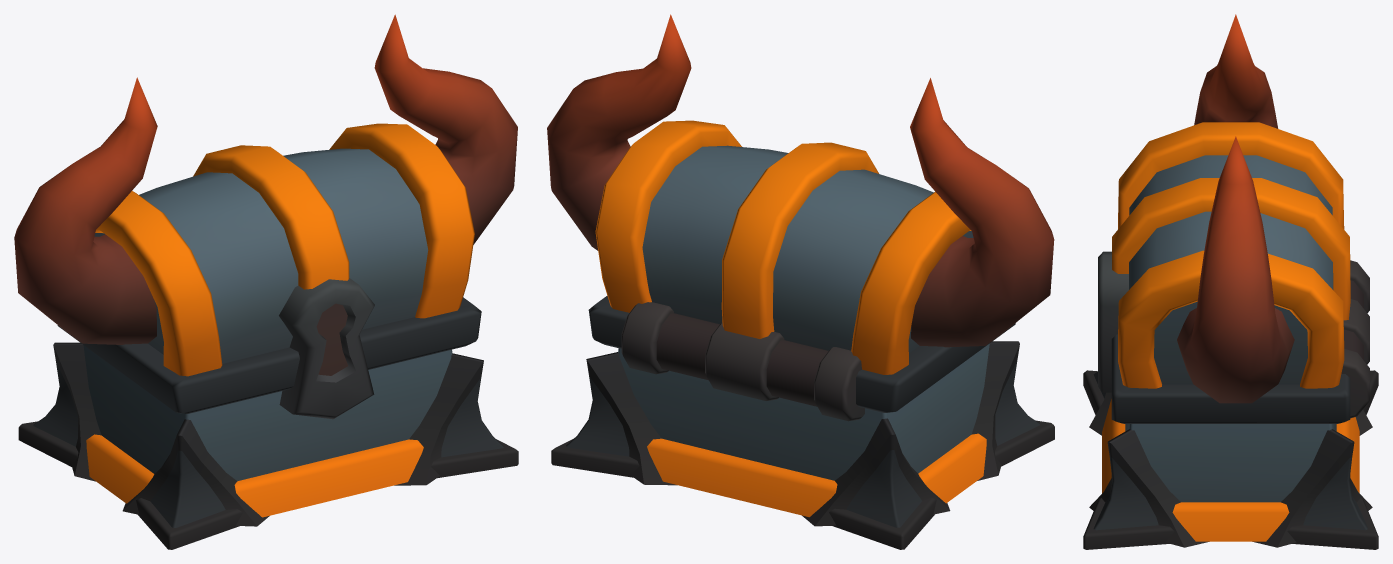
File: inferno-chest-big-001.glb
3 renders of one model, left to right at view 1: azimuth 30°, elevation 25°; view 2: azimuth 150°, elevation 25°; view 3: azimuth 270°, elevation 25°, orthographic. The views are drawn at different scales.
Parts seen in each view (by area): view 1: Lid_002, Cube.034; view 2: Lid_002, Cube.034; view 3: Lid_002, Cube.034.
Boxes of the visible parts, x1,y1,x2,y2 form: Lid_002: (14, 14, 517, 419); Cube.034: (18, 342, 518, 549); Lid_002: (547, 14, 1054, 421); Cube.034: (551, 341, 1054, 549); Lid_002: (1098, 14, 1369, 423); Cube.034: (1083, 370, 1378, 549).
Size of the model in its own units: 3.32 by 2.64 by 1.79.
3 materials, 3 textured.
